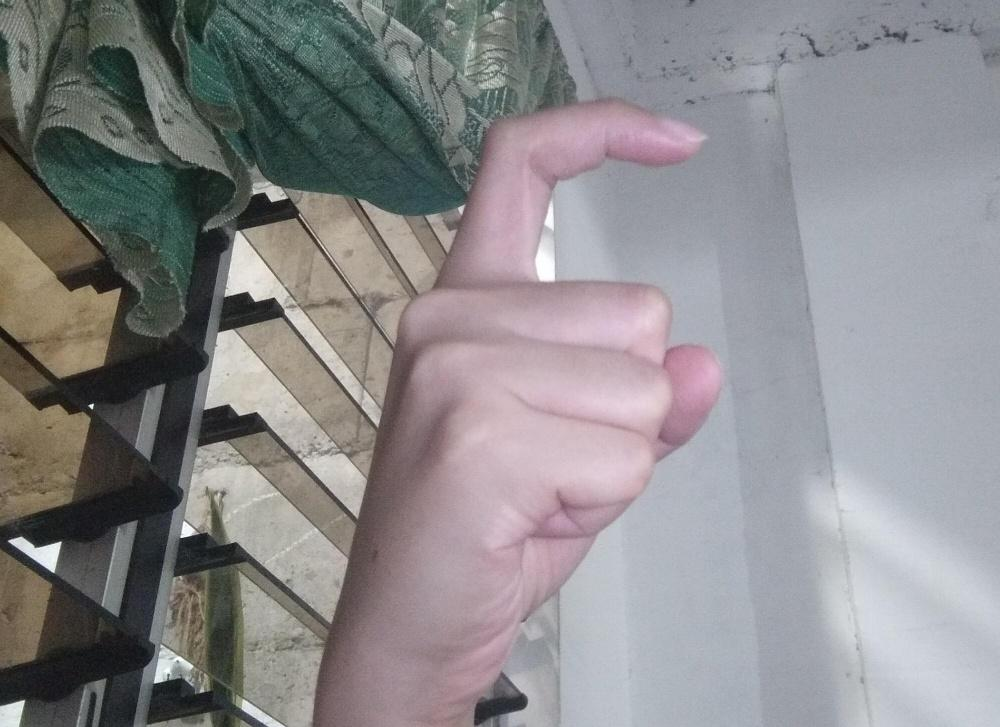x: (325, 96, 723, 700)
